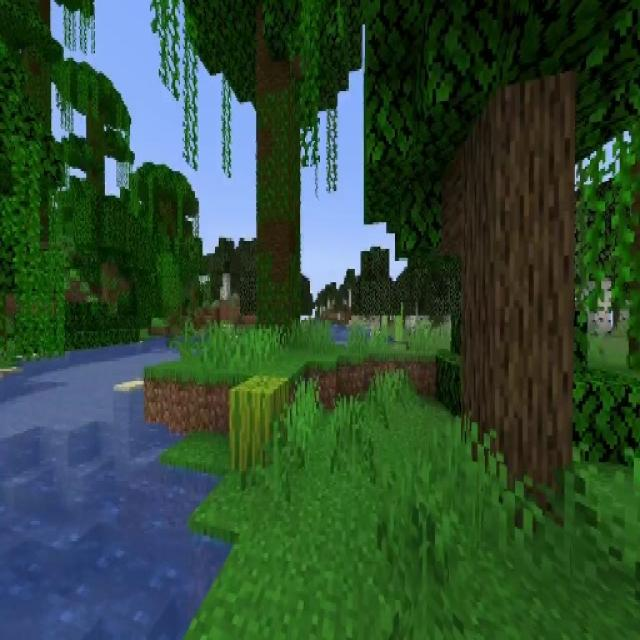birch_log: (222, 273, 230, 301)
jungle_log: (256, 98, 300, 334), (86, 118, 106, 198)
oak_log: (469, 86, 575, 522)
